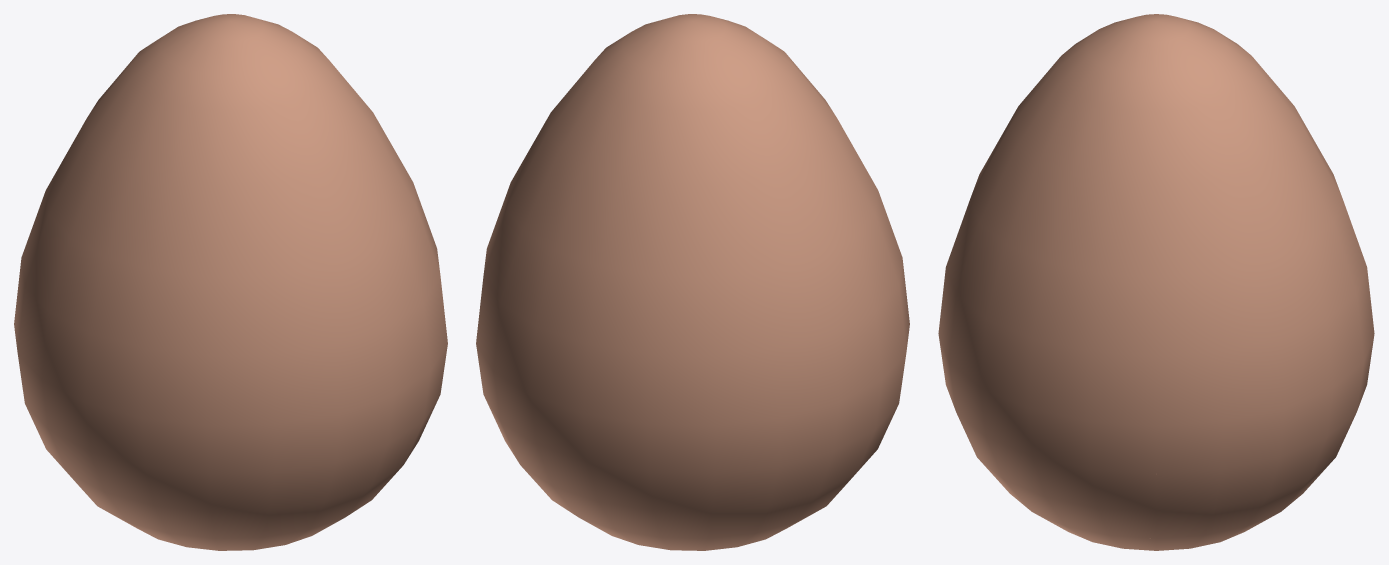
The model's file is Egg.obj.
The picture shows the model from 3 angles, left to right: view 1: azimuth 30°, elevation 25°; view 2: azimuth 150°, elevation 25°; view 3: azimuth 270°, elevation 25°; orthographic projection.
Parts seen in each view (by area): view 1: Sphere_Sphere.002; view 2: Sphere_Sphere.002; view 3: Sphere_Sphere.002.
Part boxes in pixels (x1=…): Sphere_Sphere.002: x1=14, y1=14, x2=447, y2=550; Sphere_Sphere.002: x1=476, y1=14, x2=909, y2=550; Sphere_Sphere.002: x1=938, y1=14, x2=1374, y2=550.
Bounding box in the file's own units: 2 × 2.58 × 2.
